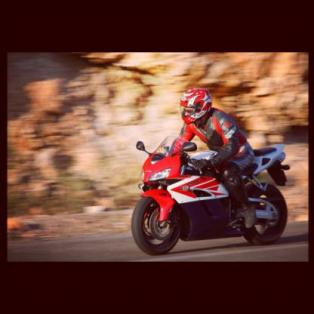Motocicleta: (135, 132, 290, 257)
